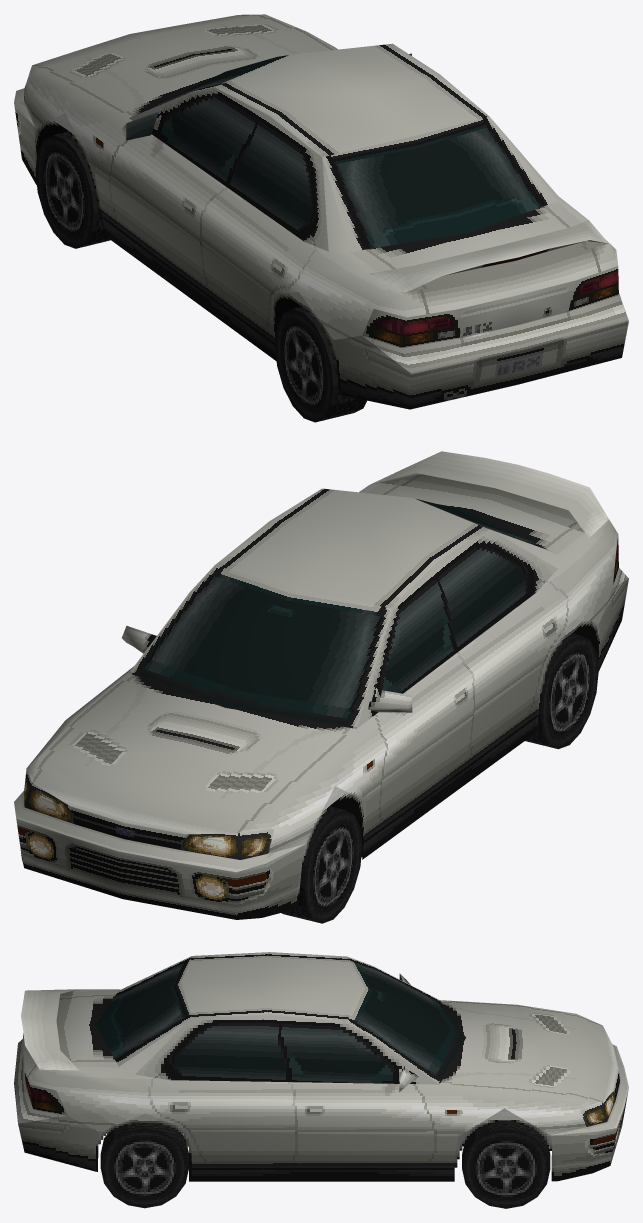
Rendered from night.glb.
3 renders of one model, top to bottom at view 1: azimuth 30°, elevation 25°; view 2: azimuth 150°, elevation 25°; view 3: azimuth 270°, elevation 25°, orthographic. The views are drawn at different scales.
Parts seen in each view (by area): view 1: Native body LOD0, Native wheel 2, Native wheel 0; view 2: Native body LOD0, Native wheel 0, Native wheel 2; view 3: Native body LOD0, Native wheel 1, Native wheel 3.
Part boxes in pixels (box(x1,y1,x2,y2)): Native body LOD0: box(14, 14, 628, 409); Native wheel 2: box(275, 306, 366, 422); Native wheel 0: box(35, 131, 110, 248); Native body LOD0: box(14, 451, 628, 919); Native wheel 0: box(281, 806, 362, 923); Native wheel 2: box(525, 633, 598, 749); Native body LOD0: box(14, 952, 628, 1181); Native wheel 1: box(462, 1120, 550, 1208); Native wheel 3: box(100, 1122, 188, 1208).
Size of the model in its own units: 1.77 by 1.4 by 4.33.
Materials: 13 (12 with a texture image).
